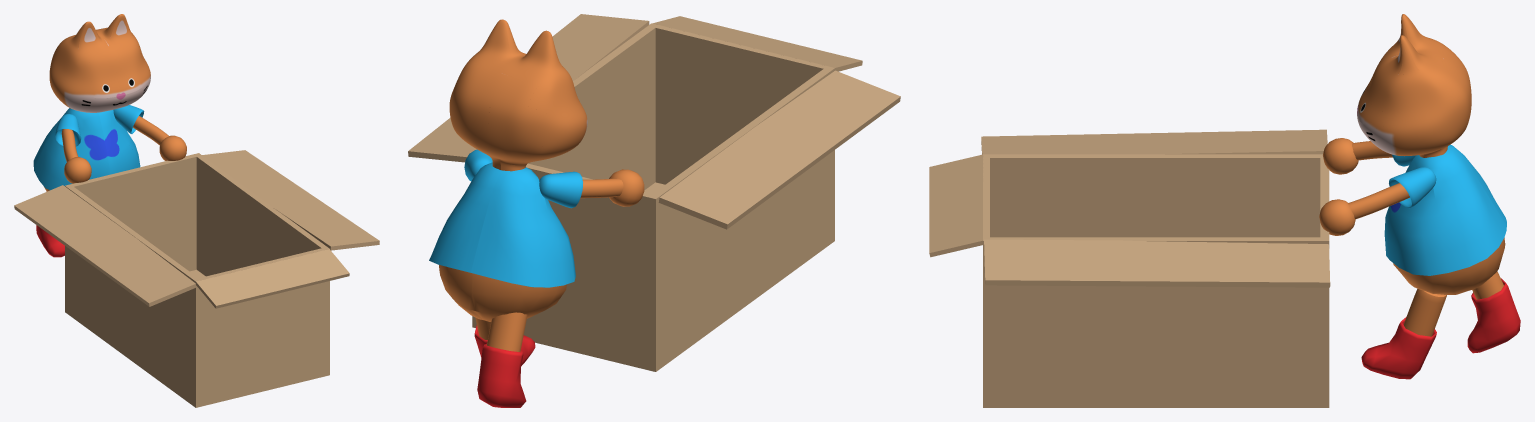
The model's file is Cat_v4.glb.
The picture shows the model from 3 angles, left to right: view 1: azimuth 30°, elevation 25°; view 2: azimuth 150°, elevation 25°; view 3: azimuth 270°, elevation 25°; orthographic projection. The views are drawn at different scales.
Parts seen in each view (by area): view 1: caja, Cube.003, head, Cube.001, Body, Cube.002, arms, shirt, Leg_R; view 2: caja, Body, Cube.003, head, Cube.001, Leg_R, Cube.002, shirt, arms, Leg_L; view 3: caja, Cube.001, Body, head, Cube.003, Cube.002, Leg_L, arms, Leg_R, shirt.
Part boxes in pixels (<box>): caja: <box>65,153,329,407</box>; Cube.003: <box>14,185,197,306</box>; head: <box>49,14,150,112</box>; Cube.001: <box>202,150,379,250</box>; Body: <box>33,108,140,191</box>; Cube.002: <box>196,249,349,308</box>; arms: <box>61,116,186,183</box>; shirt: <box>55,105,144,146</box>; Leg_R: <box>36,225,64,257</box>; caja: <box>472,23,834,371</box>; Body: <box>429,162,575,321</box>; Cube.003: <box>658,70,900,229</box>; head: <box>449,19,587,171</box>; Cube.001: <box>408,14,649,162</box>; Leg_R: <box>477,312,527,407</box>; Cube.002: <box>653,16,862,71</box>; shirt: <box>464,149,582,208</box>; arms: <box>580,169,644,206</box>; Leg_L: <box>474,317,535,366</box>; caja: <box>983,154,1329,407</box>; Cube.001: <box>984,239,1330,287</box>; Body: <box>1384,144,1506,294</box>; head: <box>1357,14,1471,157</box>; Cube.003: <box>981,129,1327,154</box>; Cube.002: <box>929,154,983,257</box>; Leg_L: <box>1361,288,1446,379</box>; arms: <box>1319,138,1409,235</box>; Leg_R: <box>1467,271,1520,353</box>; shirt: <box>1389,154,1436,207</box>.
Bounding box in the file's own units: 1.36 × 1.41 × 2.22.
6 materials, 2 textured.
